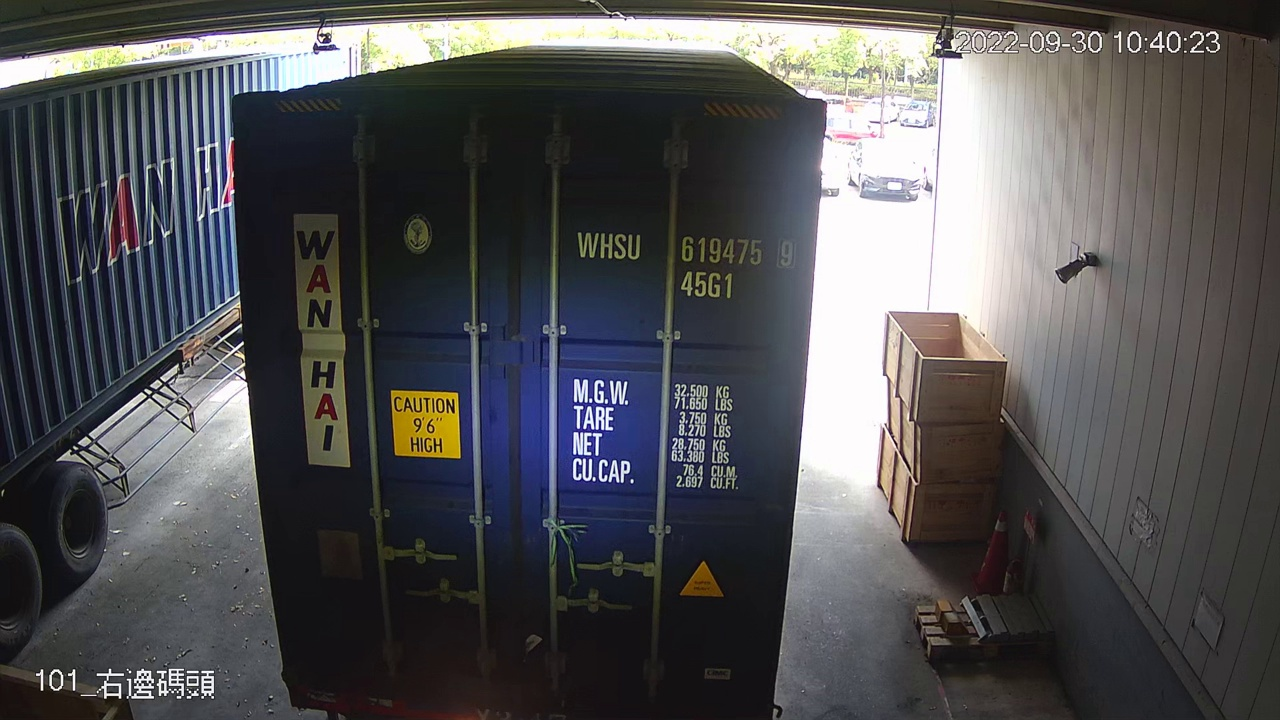container: (568, 222, 802, 308)
